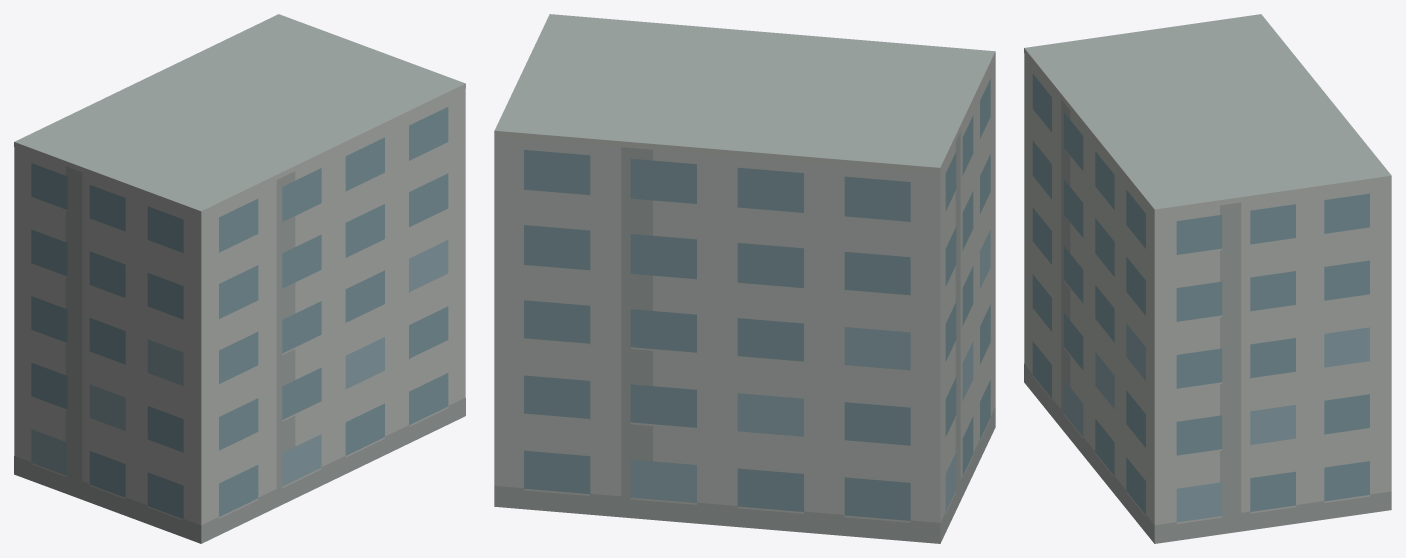
The model's file is survey-upis-32767618.glb.
3 renders of one model, left to right at view 1: azimuth 30°, elevation 25°; view 2: azimuth 150°, elevation 25°; view 3: azimuth 270°, elevation 25°, orthographic. The views are drawn at different scales.
Visible parts, largest first — view 1: survey-upis-32767618.tmp; view 2: survey-upis-32767618.tmp; view 3: survey-upis-32767618.tmp.
Part boxes in pixels (left/top/right/bottom): survey-upis-32767618.tmp: left=14, top=14, right=465, bottom=543; survey-upis-32767618.tmp: left=494, top=14, right=995, bottom=543; survey-upis-32767618.tmp: left=1024, top=14, right=1391, bottom=543.
Bounding box in the file's own units: 19.45 × 15.5 × 15.45.
